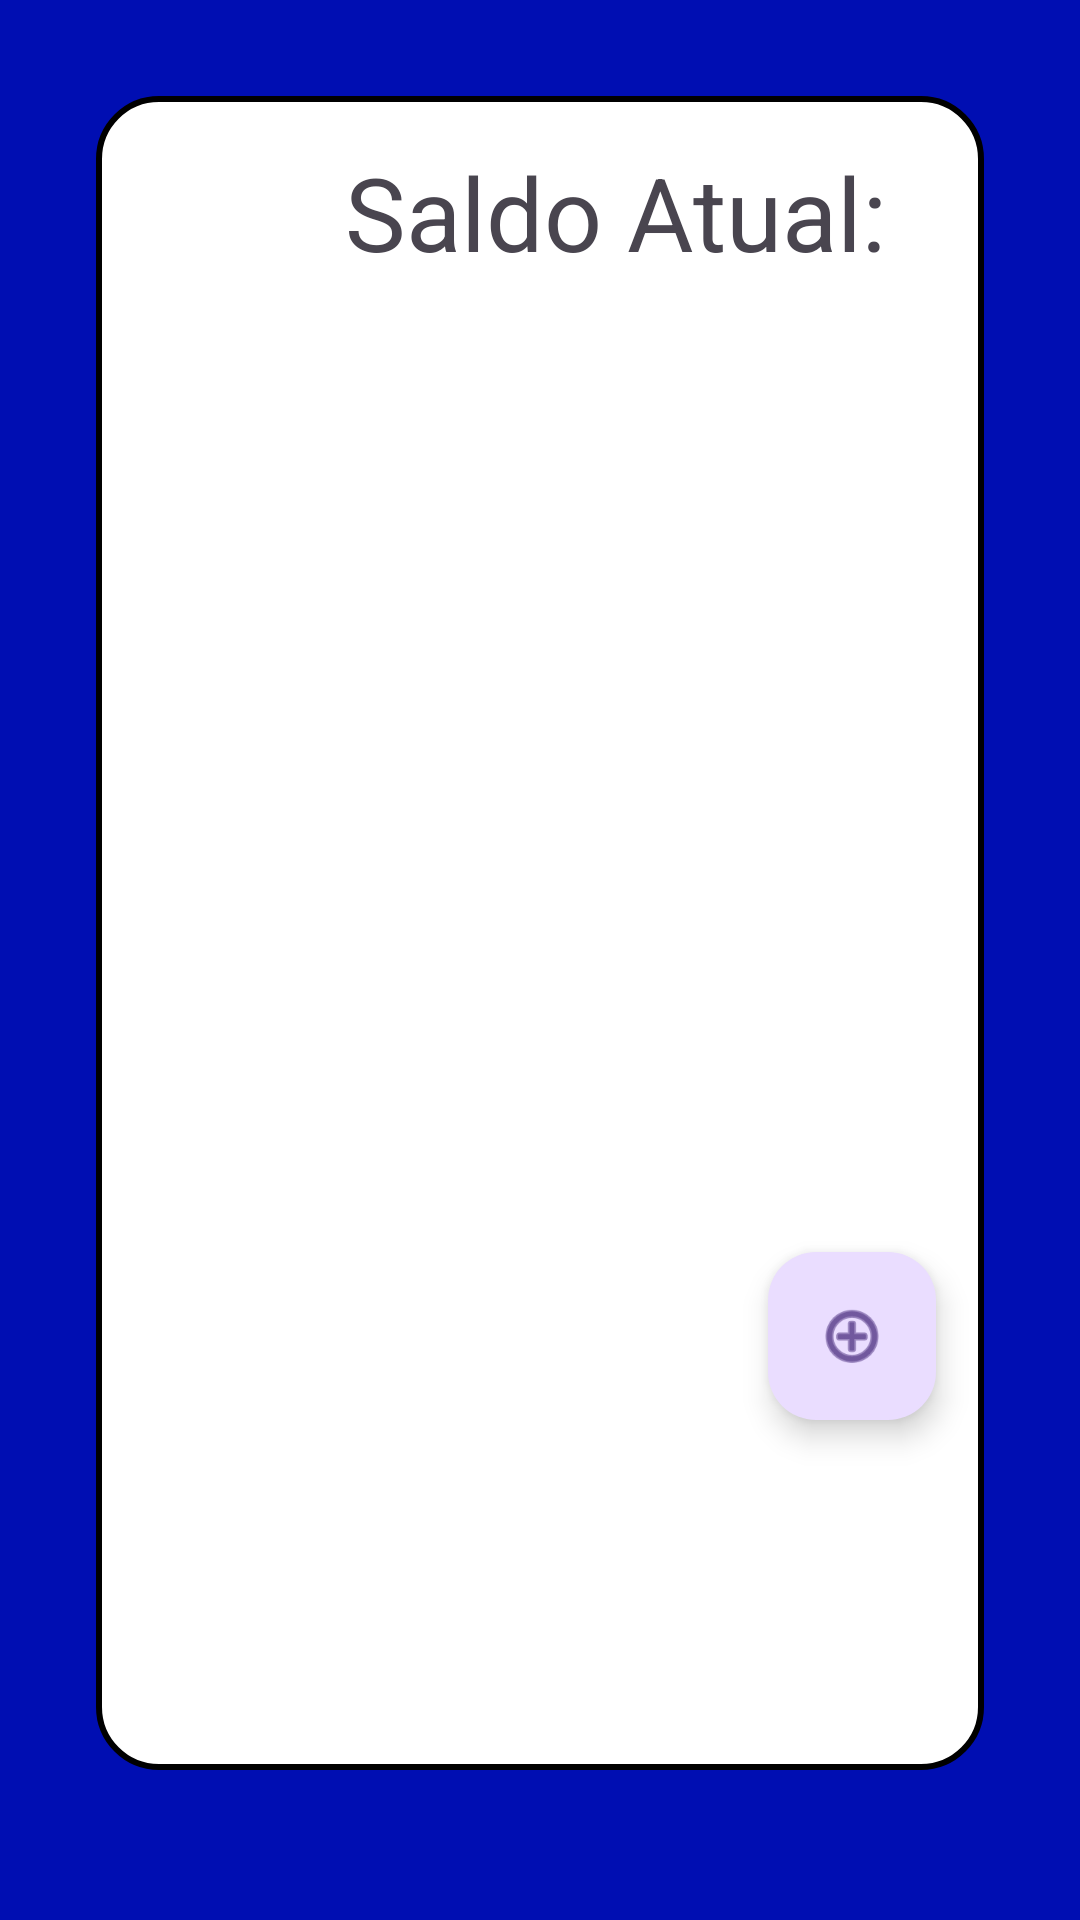

Named icons in this screenshot (1080w x 1920h) and their bounding boxes, (x1, y1, x2, y2):
add: (768, 1252, 936, 1420)
